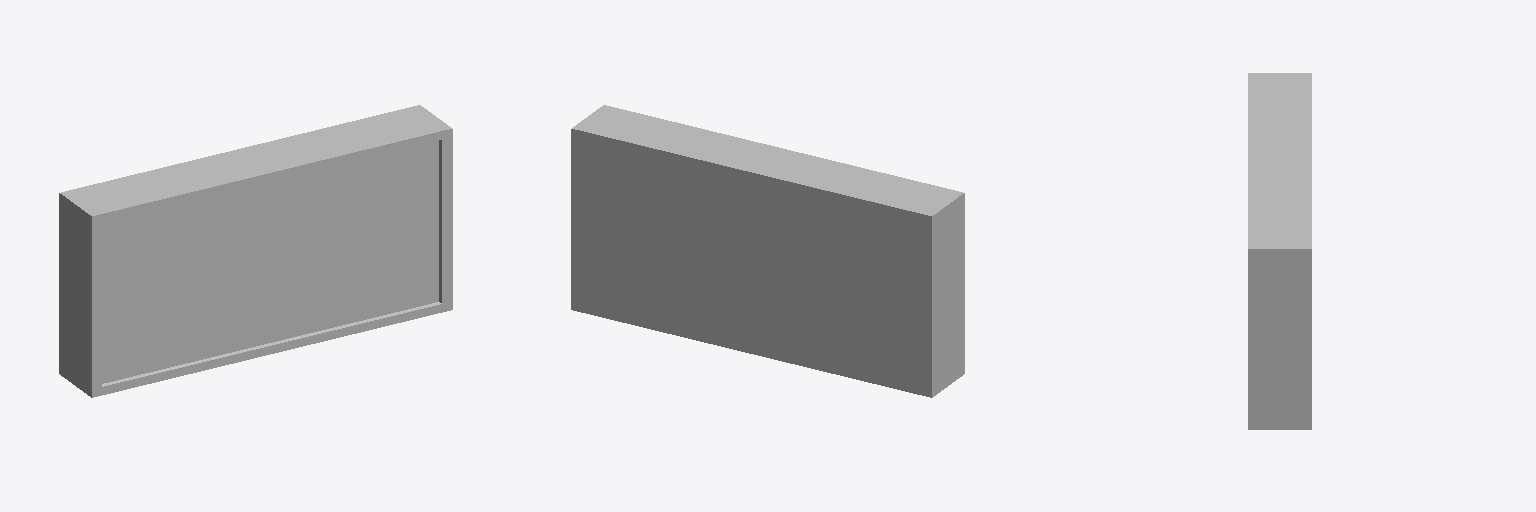
File: emergency-exit.obj
3 views of the same model, side by side, from view 1: azimuth 30°, elevation 25°; view 2: azimuth 150°, elevation 25°; view 3: azimuth 270°, elevation 25° (orthographic).
Parts seen in each view (by area): view 1: Exit; view 2: Exit; view 3: Exit.
Boxes of the visible parts, <box> form: Exit: <box>59,105,452,397</box>; Exit: <box>571,105,964,397</box>; Exit: <box>1248,73,1311,429</box>.
Size of the model in its own units: 10.77 by 5.44 by 1.68.